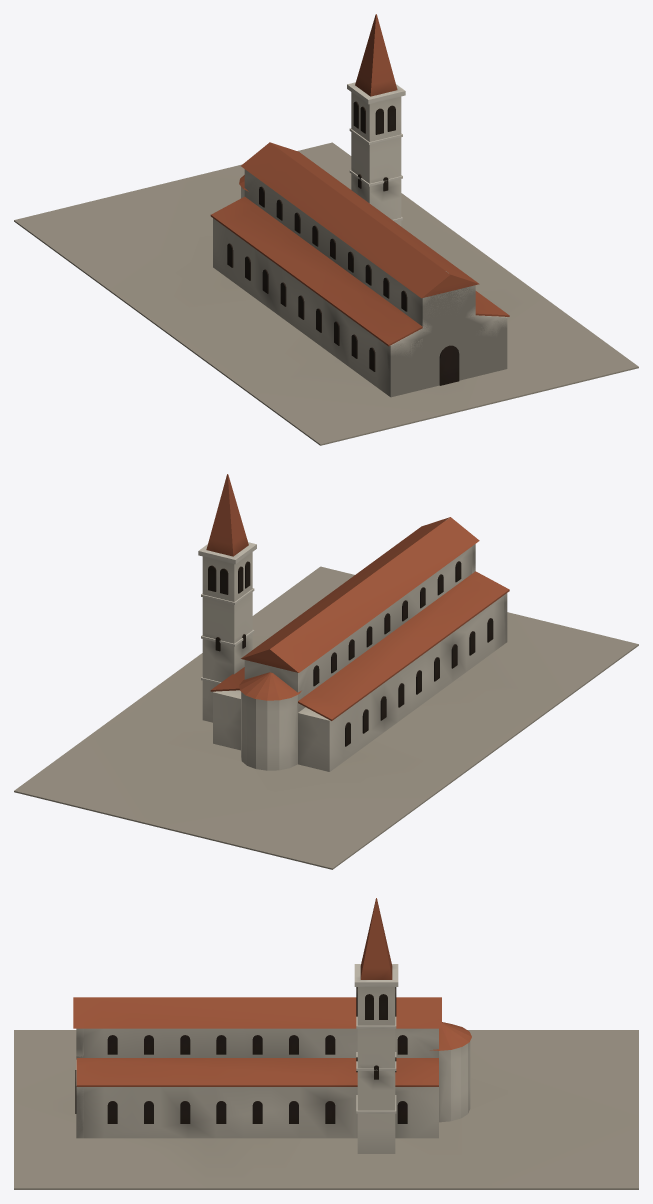
The model's file is san-lorenzo-old.glb.
3 views of the same model, one above another, from view 1: azimuth 30°, elevation 25°; view 2: azimuth 150°, elevation 25°; view 3: azimuth 270°, elevation 25° (orthographic).
Parts seen in each view (by area): view 1: p0_walls, p1_roofs, p2_campanile; view 2: p0_walls, p1_roofs, p2_campanile; view 3: p0_walls, p1_roofs, p2_campanile.
Part boxes in pixels (x1=…): p0_walls: x1=14, y1=142, x2=638, y2=445; p1_roofs: x1=210, y1=142, x2=509, y2=346; p2_campanile: x1=347, y1=14, x2=405, y2=226; p0_walls: x1=14, y1=518, x2=638, y2=869; p1_roofs: x1=210, y1=517, x2=509, y2=720; p2_campanile: x1=198, y1=474, x2=256, y2=722; p0_walls: x1=14, y1=1022, x2=638, y2=1189; p1_roofs: x1=73, y1=997, x2=441, y2=1086; p2_campanile: x1=354, y1=898, x2=398, y2=1153.
Bounding box in the file's own units: 60 × 44 × 100.
